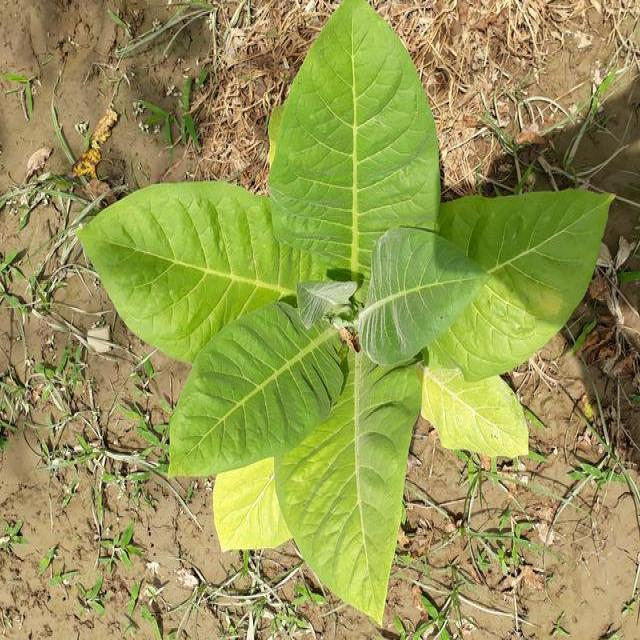crop: (78, 0, 619, 631)
